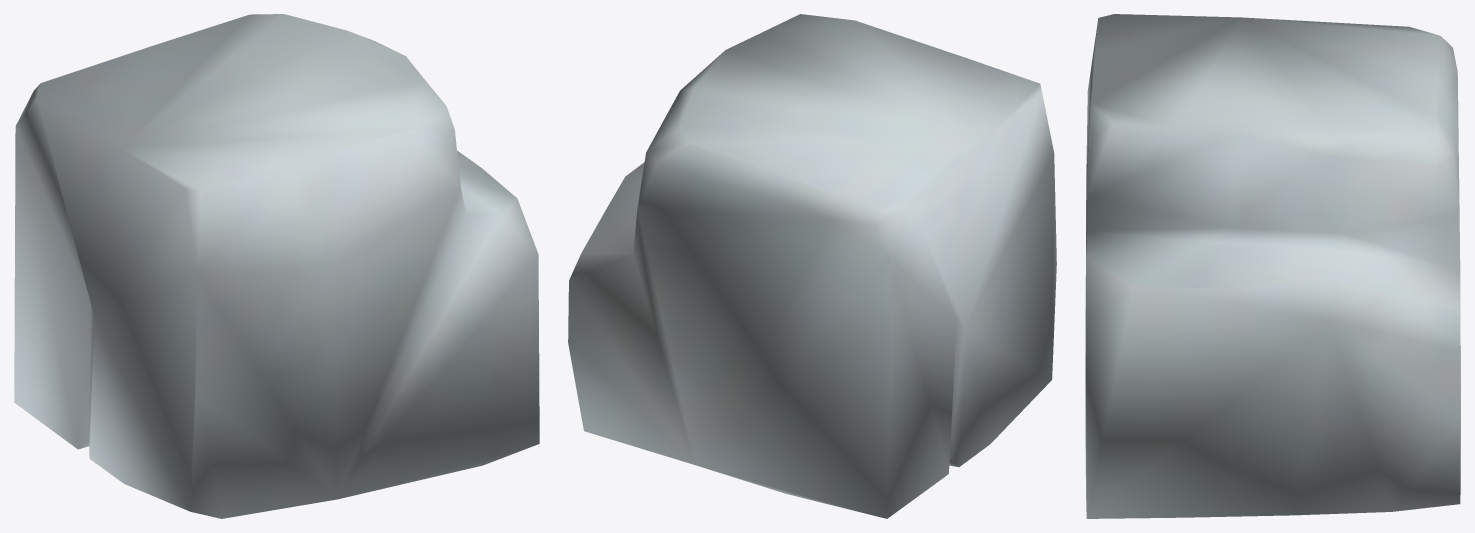
The model's file is P_RockCubic06.obj.
3 renders of one model, left to right at view 1: azimuth 30°, elevation 25°; view 2: azimuth 150°, elevation 25°; view 3: azimuth 270°, elevation 25°, orthographic. The views are drawn at different scales.
Size of the model in its own units: 2.24 by 2.14 by 2.
